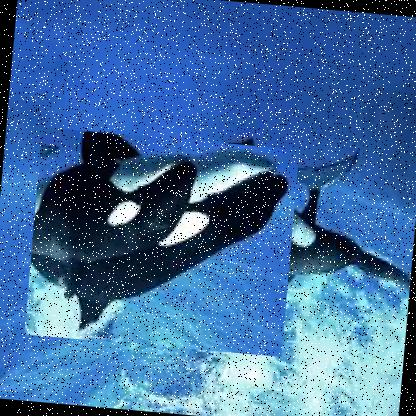killer_whale: (120, 57, 415, 308), (24, 126, 300, 357)
